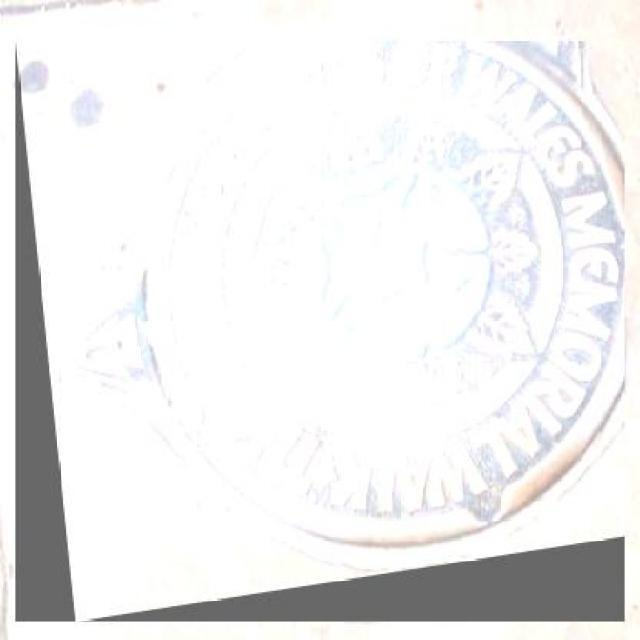Manhole: (18, 40, 626, 622)
